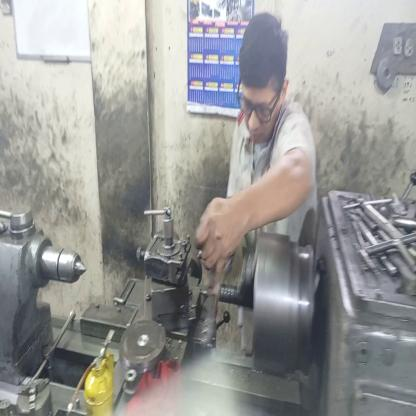lentes: (235, 76, 282, 126)
